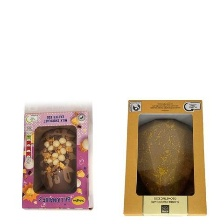book: (118, 94, 213, 220), (16, 103, 99, 218)
